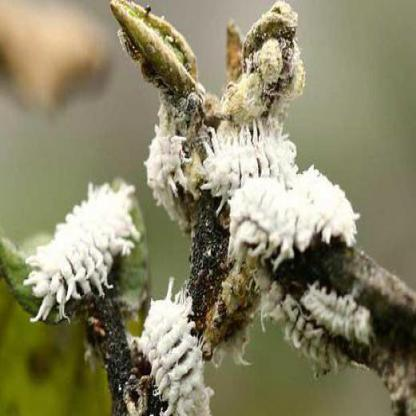mealy bug: (26, 184, 134, 319), (230, 169, 355, 271), (142, 274, 212, 415), (206, 128, 295, 196)
